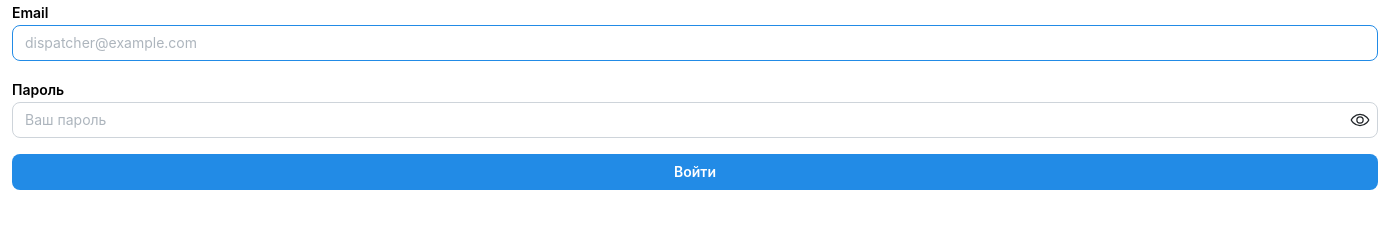
Test case: LoginForm › validates required fields before sending a request
Click the button "Войти" at (695, 172), box [12,154,1378,190]
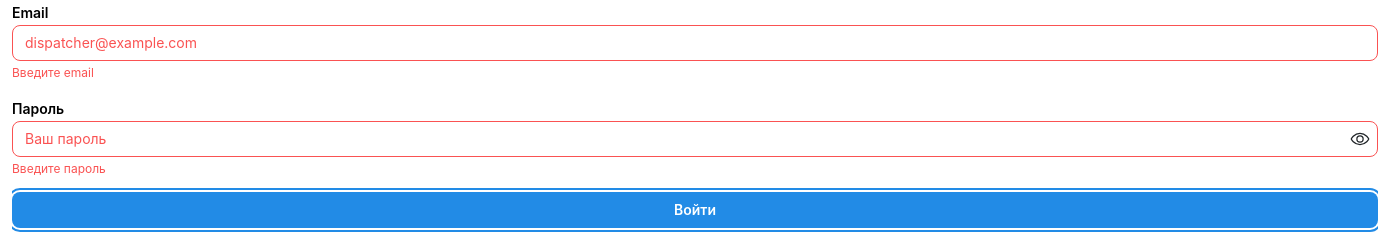
Expected: the text "Введите email" is shown, [12,65,94,80]
Expected: the text "Введите пароль" is shown, [12,161,106,176]
